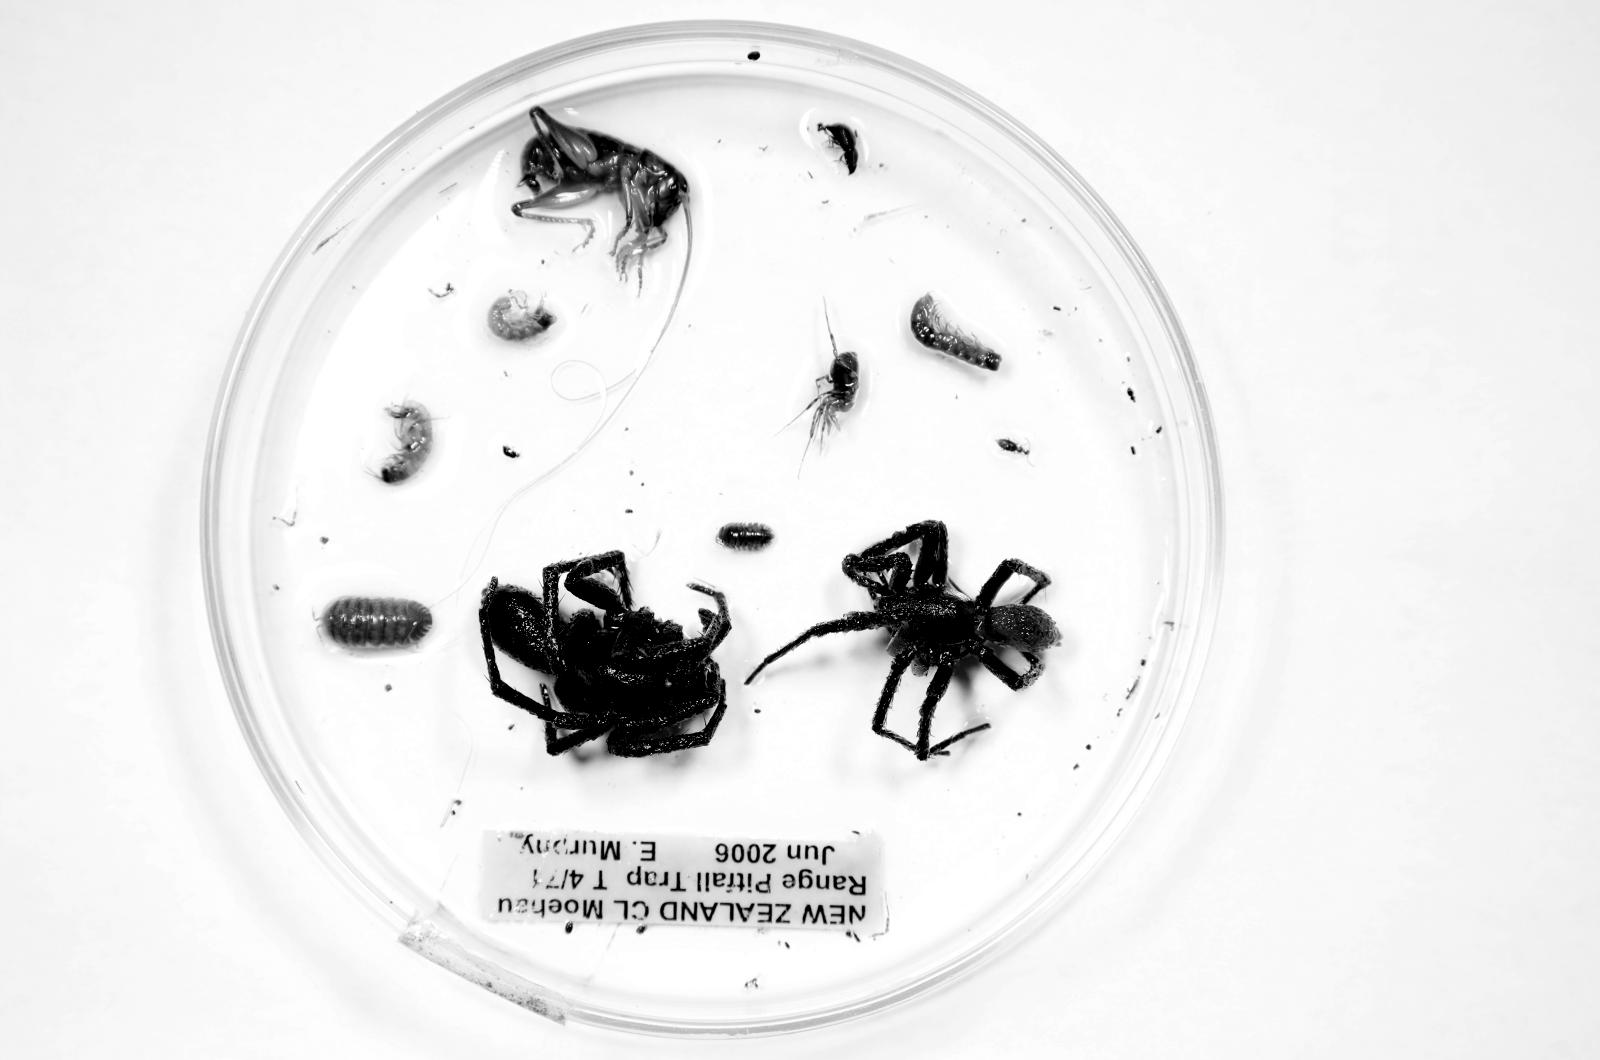amphipoda: (379, 400, 433, 484), (488, 290, 556, 341)
araneae: (746, 520, 1061, 760), (479, 551, 731, 756)
coleoptera: (817, 123, 860, 174), (996, 438, 1030, 456)
isopoda: (319, 596, 433, 650), (717, 523, 774, 551)
opiliones: (806, 349, 858, 452)
orthoptera: (512, 107, 693, 296)
